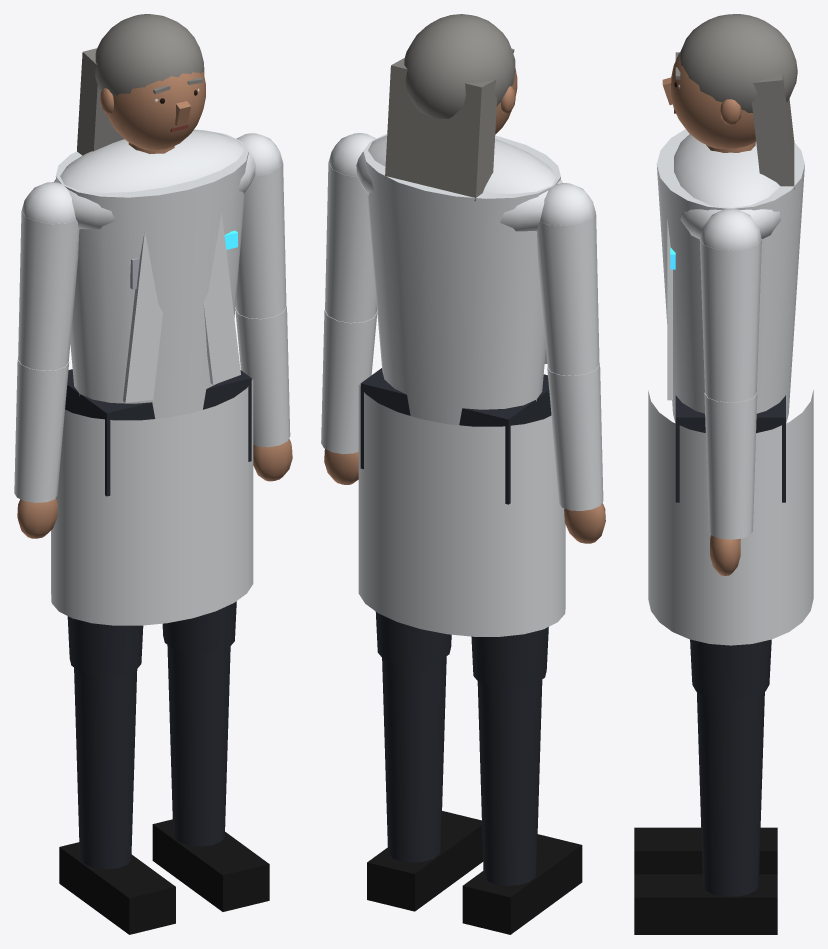
The model's file is char_crowd_3.glb.
The picture shows the model from 3 angles, left to right: view 1: azimuth 30°, elevation 25°; view 2: azimuth 150°, elevation 25°; view 3: azimuth 270°, elevation 25°; orthographic projection. The views are drawn at different scales.
Parts seen in each view (by area): view 1: Torso__Char_Lab, Shin__Char_Pants (×2), UpperArm__Char_Lab (×2), Shin__Char_Shoes (×2), Forearm__Char_Lab (×2), Head_Mesh__Char_Hair_Gray, Thigh__Char_Pants (×2), Head_Mesh__Char_Skin_A, Pelvis__Char_Pants, Forearm__Char_Skin_A (×2); view 2: Torso__Char_Lab, Shin__Char_Pants (×2), UpperArm__Char_Lab (×2), Head_Mesh__Char_Hair_Gray, Forearm__Char_Lab (×2), Shin__Char_Shoes (×2), Thigh__Char_Pants (×2), Pelvis__Char_Pants, Forearm__Char_Skin_A (×2), Head_Mesh__Char_Skin_A; view 3: Torso__Char_Lab, Shin__Char_Pants, Shin__Char_Shoes (×2), Head_Mesh__Char_Hair_Gray, UpperArm__Char_Lab, Forearm__Char_Lab, Head_Mesh__Char_Skin_A, Thigh__Char_Pants, Pelvis__Char_Pants, Forearm__Char_Skin_A.
Boxes of the visible parts, <box> form: Torso__Char_Lab: <box>51,129,255,625</box>; Shin__Char_Pants (×2): <box>74,645,230,869</box>; UpperArm__Char_Lab (×2): <box>18,133,286,370</box>; Shin__Char_Shoes (×2): <box>59,819,269,934</box>; Forearm__Char_Lab (×2): <box>14,306,290,502</box>; Head_Mesh__Char_Hair_Gray: <box>77,14,204,155</box>; Thigh__Char_Pants (×2): <box>67,601,236,676</box>; Head_Mesh__Char_Skin_A: <box>100,72,205,153</box>; Pelvis__Char_Pants: <box>65,369,251,496</box>; Forearm__Char_Skin_A (×2): <box>17,438,292,538</box>; Torso__Char_Lab: <box>356,134,565,636</box>; Shin__Char_Pants (×2): <box>382,656,542,885</box>; UpperArm__Char_Lab (×2): <box>325,133,599,375</box>; Head_Mesh__Char_Hair_Gray: <box>385,14,515,201</box>; Forearm__Char_Lab (×2): <box>321,309,603,510</box>; Shin__Char_Shoes (×2): <box>367,811,582,934</box>; Thigh__Char_Pants (×2): <box>375,611,548,689</box>; Pelvis__Char_Pants: <box>360,368,551,504</box>; Forearm__Char_Skin_A (×2): <box>324,449,605,543</box>; Head_Mesh__Char_Skin_A: <box>495,68,517,134</box>; Torso__Char_Lab: <box>648,129,813,645</box>; Shin__Char_Pants: <box>697,692,764,896</box>; Shin__Char_Shoes (×2): <box>634,827,777,934</box>; Head_Mesh__Char_Hair_Gray: <box>678,14,797,189</box>; UpperArm__Char_Lab: <box>699,208,761,402</box>; Forearm__Char_Lab: <box>704,392,757,539</box>; Head_Mesh__Char_Skin_A: <box>662,53,755,152</box>; Thigh__Char_Pants: <box>690,639,771,699</box>; Pelvis__Char_Pants: <box>675,395,785,502</box>; Forearm__Char_Skin_A: <box>710,535,740,575</box>.
Size of the model in its own units: 0.5852 by 1.76 by 0.325.
